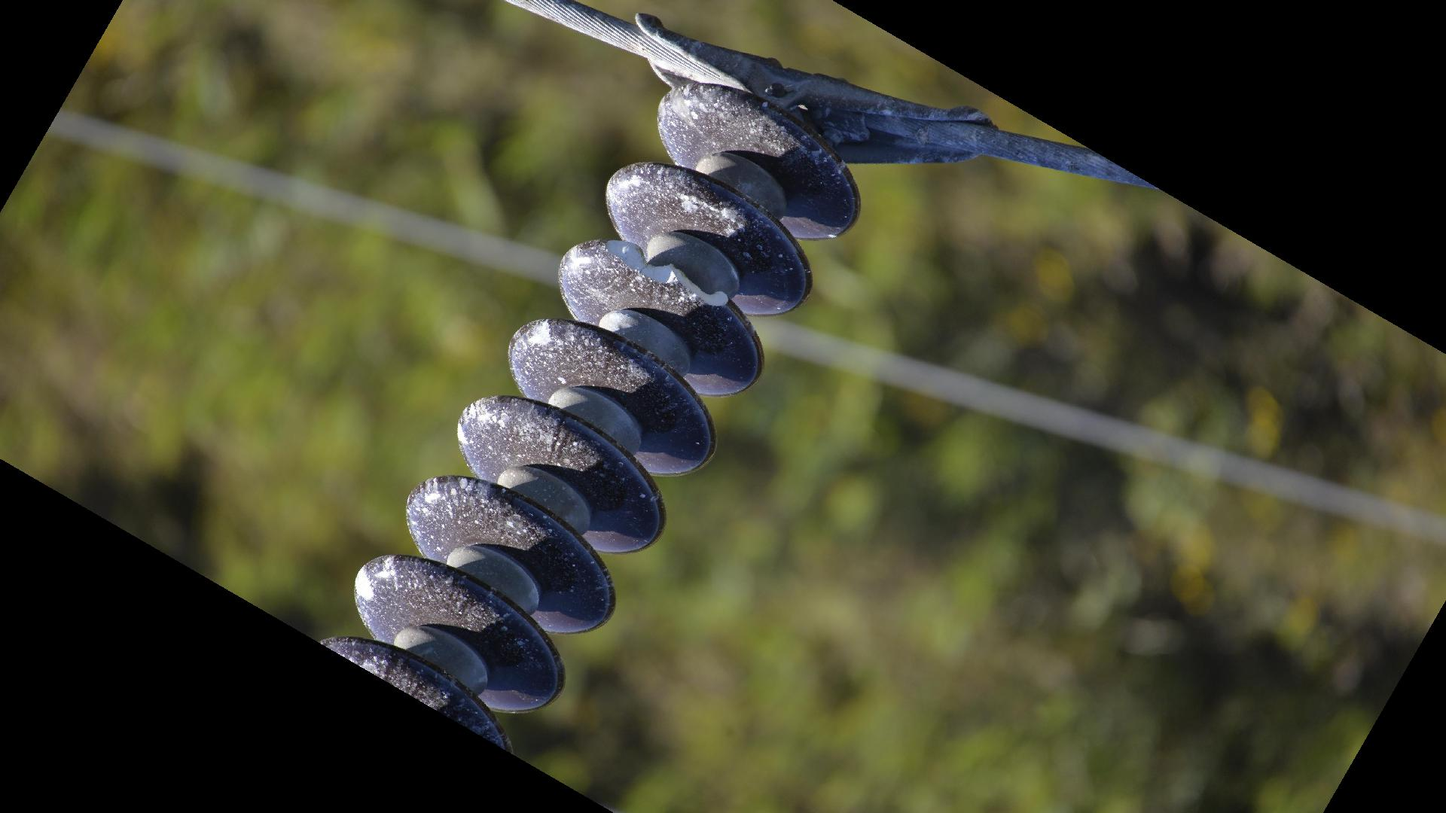insulator: (311, 75, 869, 757)
insulator_breakage: (587, 235, 737, 320)
